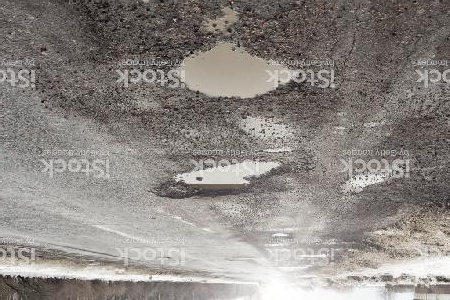pothole: (168, 43, 297, 103), (155, 158, 295, 202)
